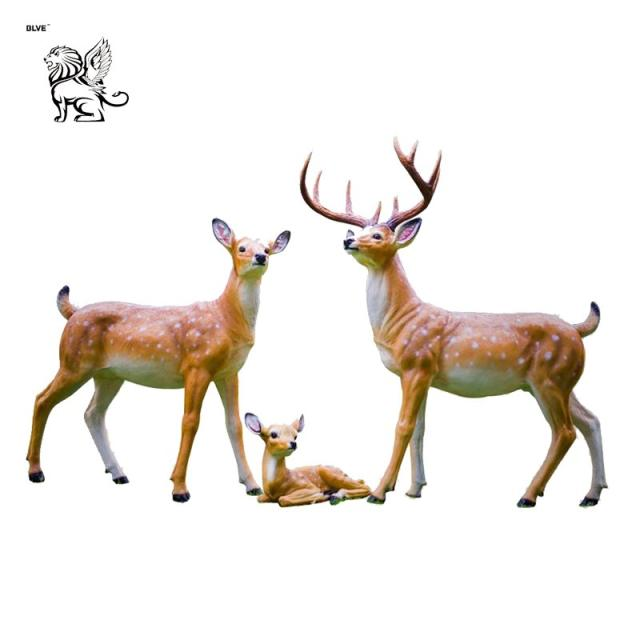not_pig: (298, 135, 609, 508), (26, 217, 290, 502), (243, 410, 371, 506)
